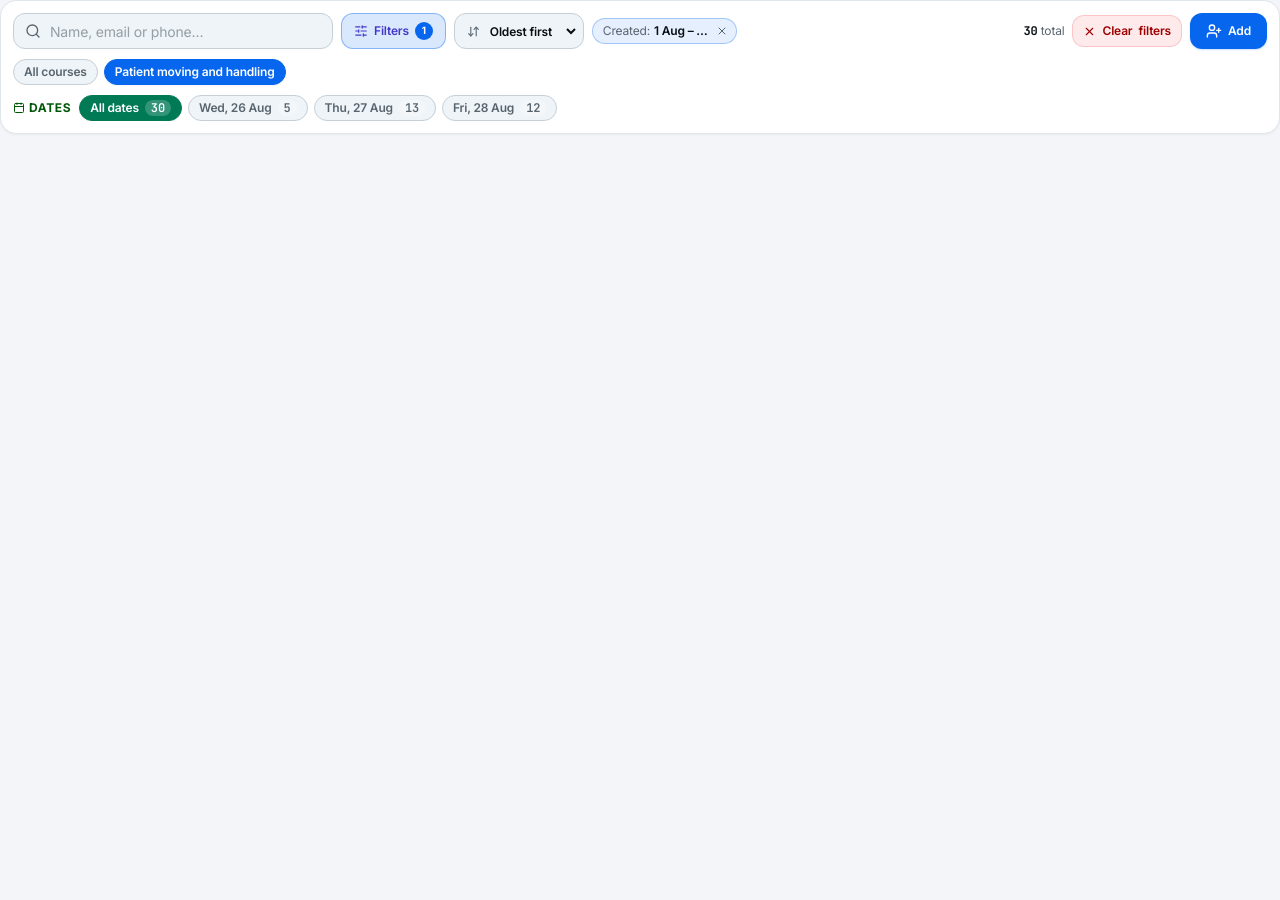
FilterBar Component - Date Filter › keeps date ranges in the filter sheet and shows one that is set as a removable chip
Check: the text "Course date" is not shown
Click the button with aria-label "Open filters": (393, 31) [341, 13, 446, 49]
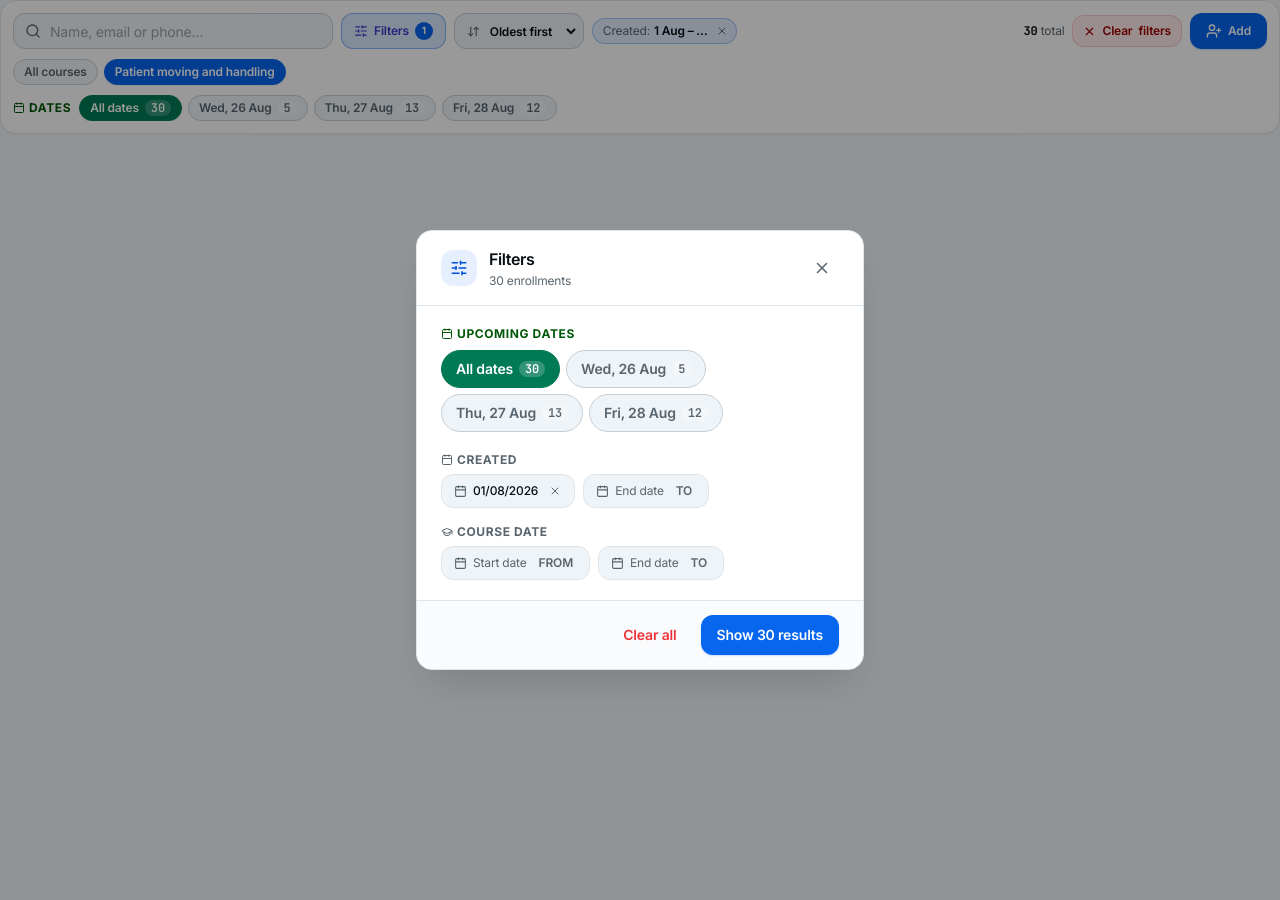
Check: the text "Course date" is shown, box [441, 524, 548, 539]
